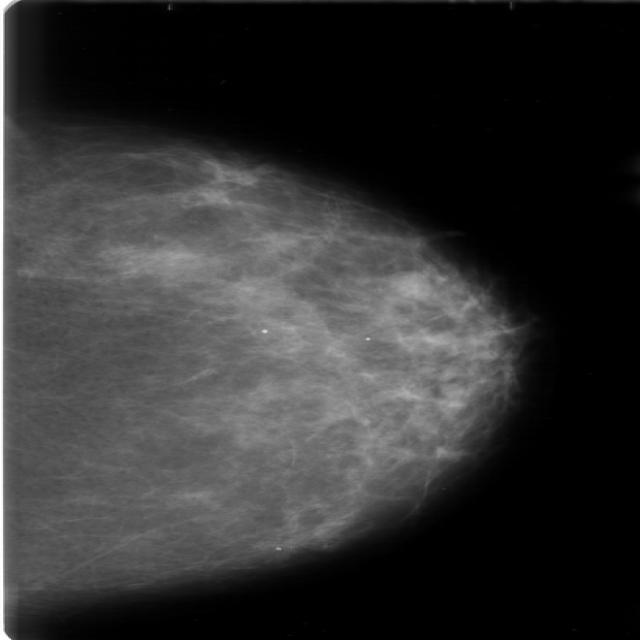tumour: (384, 268, 432, 298)
